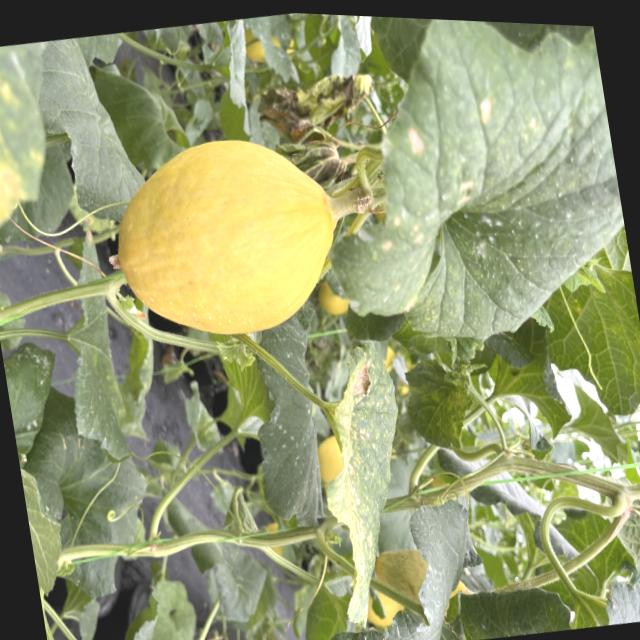downy mildew: (295, 13, 640, 375), (296, 348, 430, 631)
